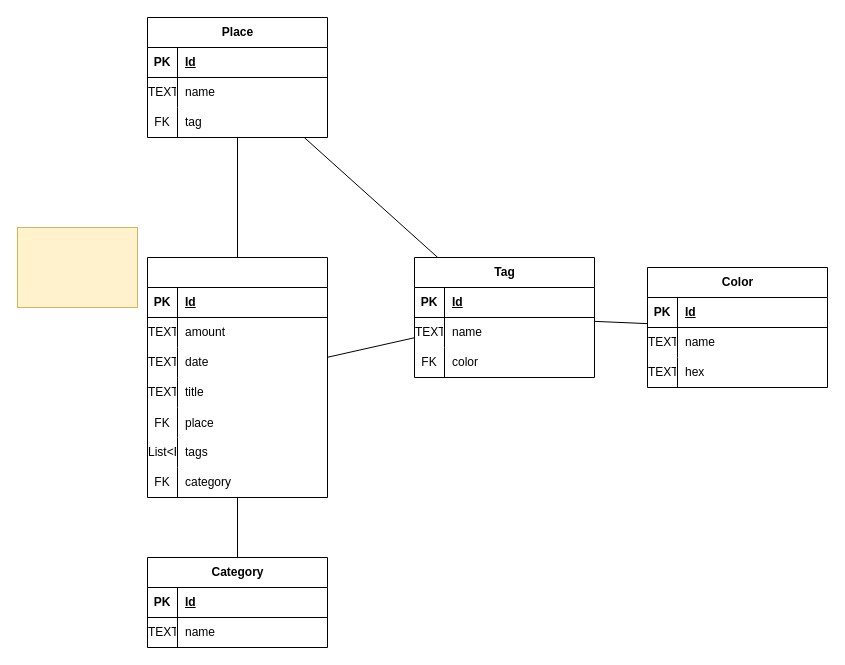
This 845x665 diagram has some shape labels left out. Each missing label, with the box of its shape:
decimal bestaat in sqlite niet. Daarom wordt het door EFCORE opgeslagen als TEXT: (16, 226, 138, 308)
Transaction: (146, 256, 328, 498)
